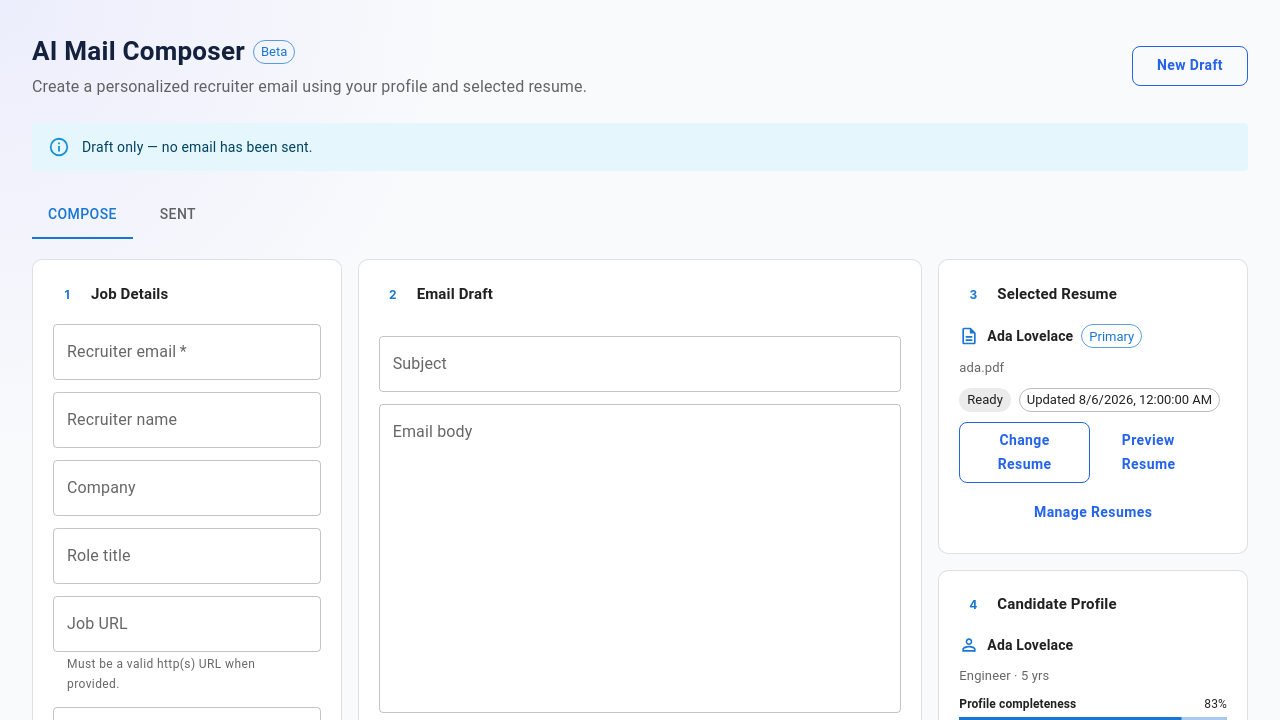
it: AiMailPage › explains ineligible resumes in the picker
Click the button "Change Resume" at (1025, 452), box [959,422,1090,482]
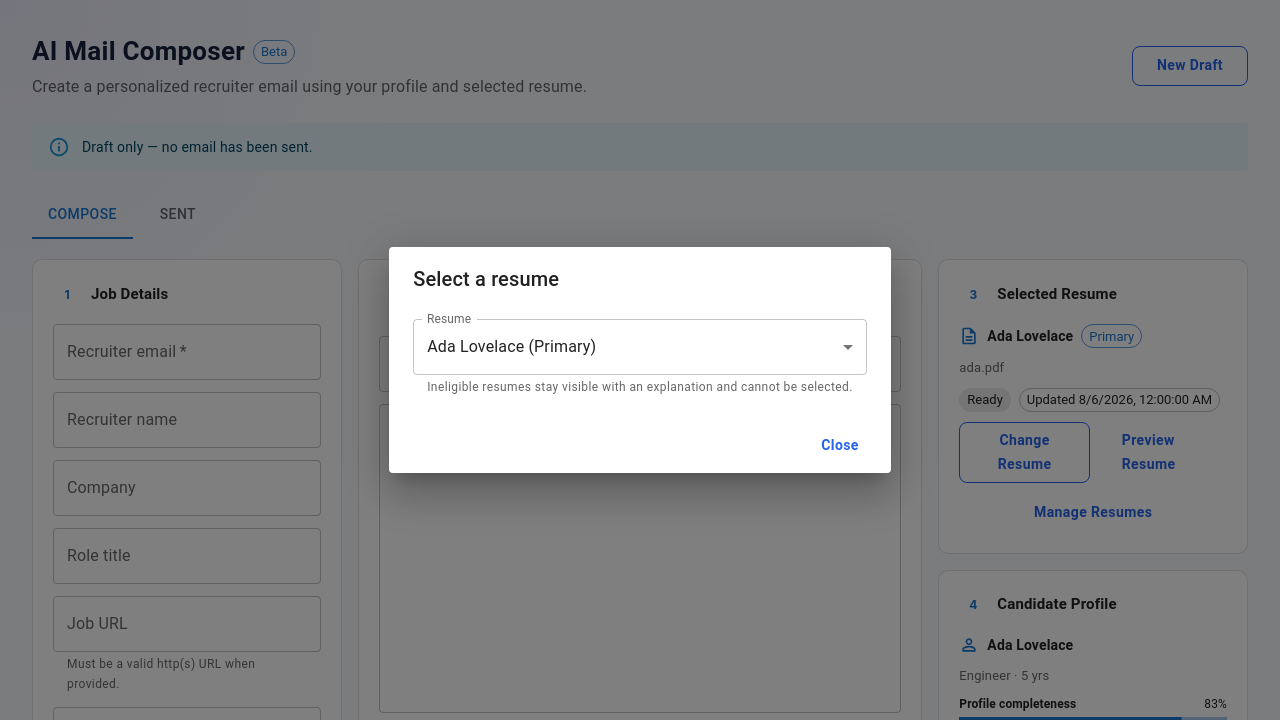
Press the mouse on the dropdown named "Resume" at (512, 346), box [427,337,596,356]
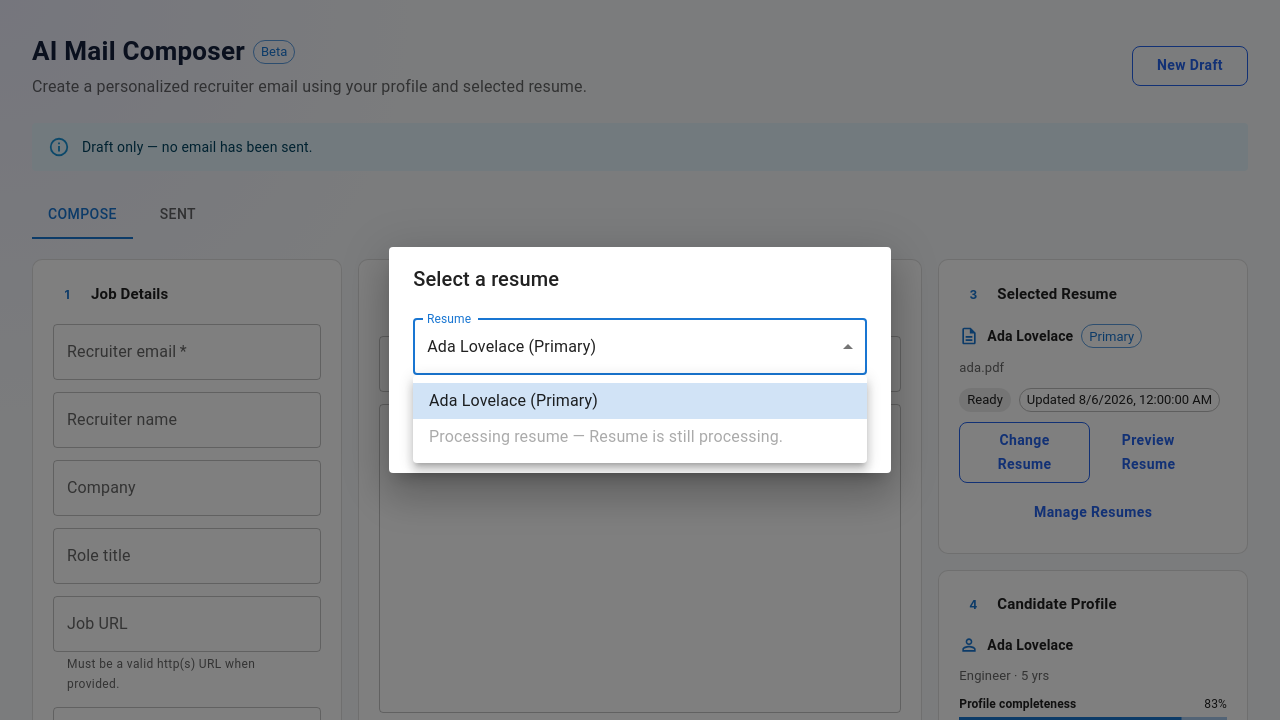
Now the option "Processing resume — Resume is still processing." is shown, box [429,427,783,446]
